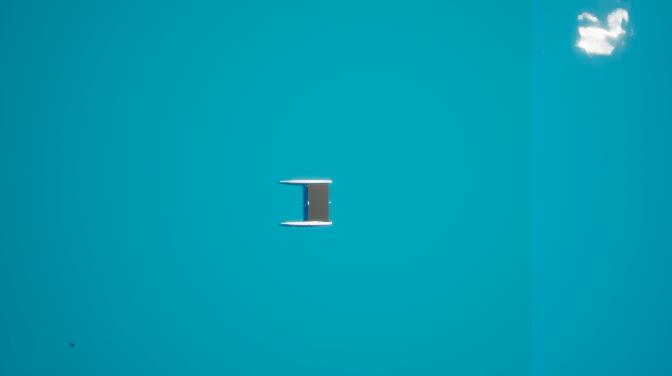boat: (277, 175, 337, 232)
drone: (68, 338, 77, 351)
land_base: (308, 185, 328, 221)
light_reflex: (572, 6, 638, 65)
